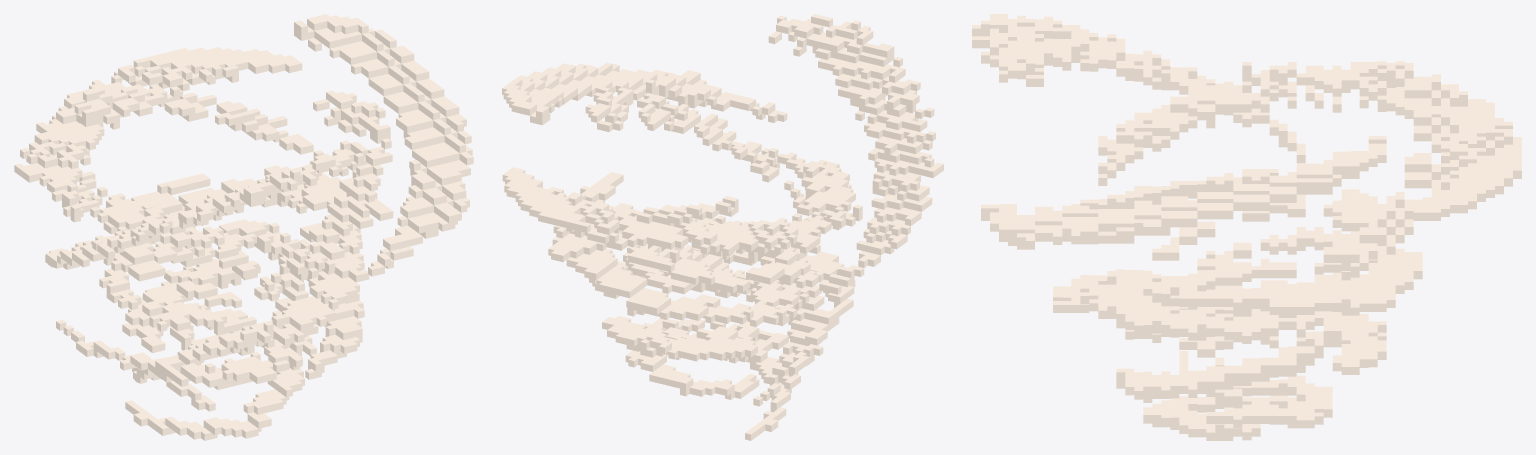
Rendered from 原色龙卷风.gltf.
3 renders of one model, left to right at view 1: azimuth 30°, elevation 25°; view 2: azimuth 150°, elevation 25°; view 3: azimuth 270°, elevation 25°, orthographic. The views are drawn at different scales.
Visible parts, largest first — view 1: Bone; view 2: Bone; view 3: Bone.
Boxes of the visible parts, x1,y1,x2,y2 form: Bone: [14, 14, 473, 440]; Bone: [502, 14, 943, 440]; Bone: [972, 14, 1521, 440].
Bounding box in the file's own units: 59 × 49 × 61.
Materials: 1 (1 with a texture image).
